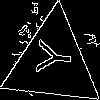Y: (28, 37, 73, 76)
